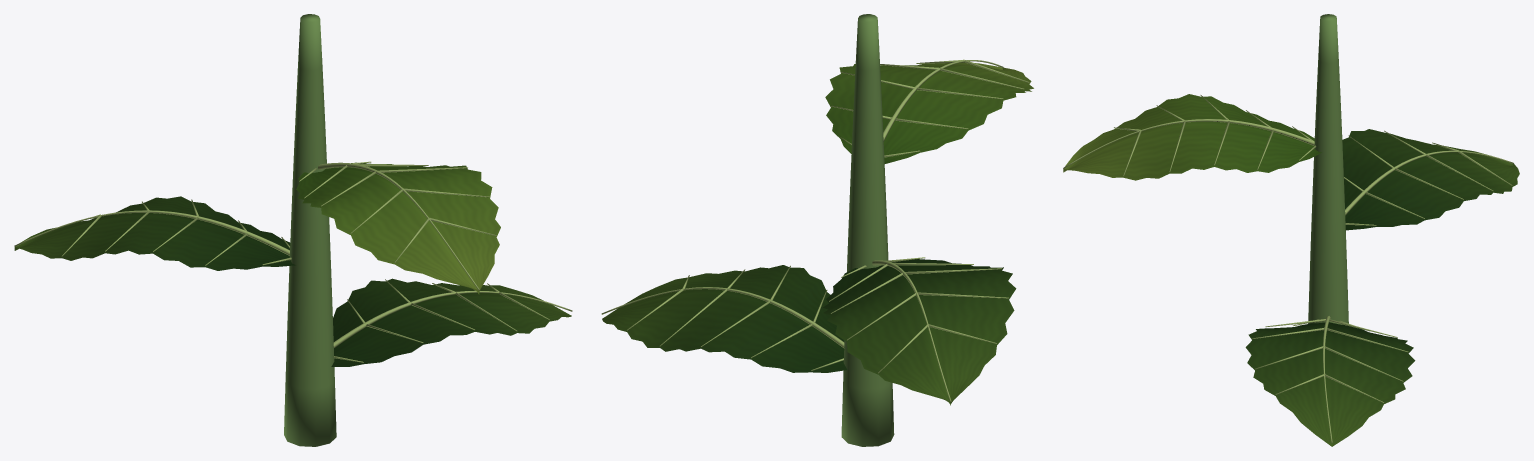
The model's file is rose-02.glb.
3 views of the same model, side by side, from view 1: azimuth 30°, elevation 25°; view 2: azimuth 150°, elevation 25°; view 3: azimuth 270°, elevation 25° (orthographic). The views are drawn at different scales.
Visible parts, largest first — view 1: rose_stage_02_leaf_veins.002, rose_stage_02_young_leaf.002, rose_stage_02_stem_fibres.002, rose_stage_02_raised_midveins.002; view 2: rose_stage_02_leaf_veins.002, rose_stage_02_stem_fibres.002, rose_stage_02_young_leaf.002, rose_stage_02_raised_midveins.002; view 3: rose_stage_02_leaf_veins.002, rose_stage_02_young_leaf.002, rose_stage_02_stem_fibres.002, rose_stage_02_raised_midveins.002.
Part boxes in pixels (left/top/right/bottom): rose_stage_02_leaf_veins.002: left=14, top=196, right=571, bottom=366; rose_stage_02_young_leaf.002: left=296, top=162, right=500, bottom=294; rose_stage_02_stem_fibres.002: left=284, top=14, right=336, bottom=446; rose_stage_02_raised_midveins.002: left=14, top=161, right=572, bottom=362; rose_stage_02_leaf_veins.002: left=602, top=259, right=1016, bottom=405; rose_stage_02_stem_fibres.002: left=841, top=14, right=894, bottom=446; rose_stage_02_young_leaf.002: left=825, top=62, right=1033, bottom=163; rose_stage_02_raised_midveins.002: left=601, top=59, right=1029, bottom=401; rose_stage_02_leaf_veins.002: left=1245, top=129, right=1519, bottom=446; rose_stage_02_young_leaf.002: left=1063, top=94, right=1321, bottom=180; rose_stage_02_stem_fibres.002: left=1308, top=14, right=1348, bottom=324; rose_stage_02_raised_midveins.002: left=1063, top=95, right=1513, bottom=442.
Bounding box in the file's own units: 0.0801 × 0.0696 × 0.0791.
4 materials, 2 textured.
